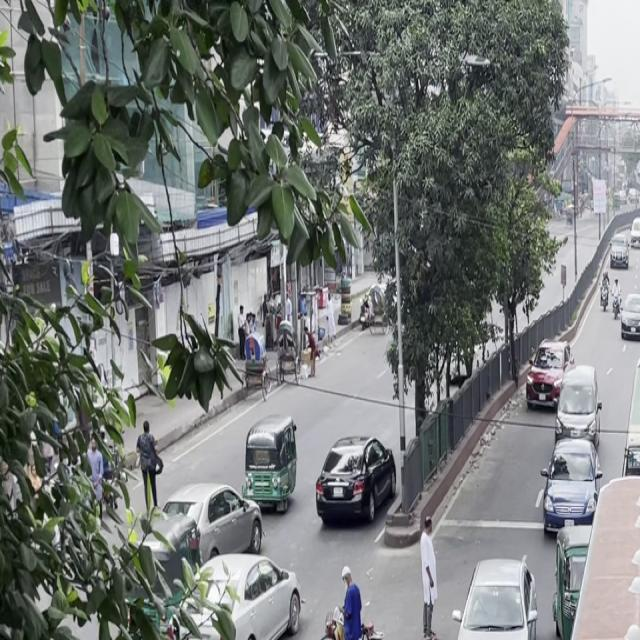bicycle: (309, 575, 399, 640)
bus: (543, 455, 640, 640)
car: (168, 542, 308, 640), (310, 427, 402, 535), (448, 549, 545, 640), (537, 427, 605, 545), (549, 365, 604, 459), (521, 332, 574, 414), (616, 287, 640, 346), (607, 236, 630, 276)
